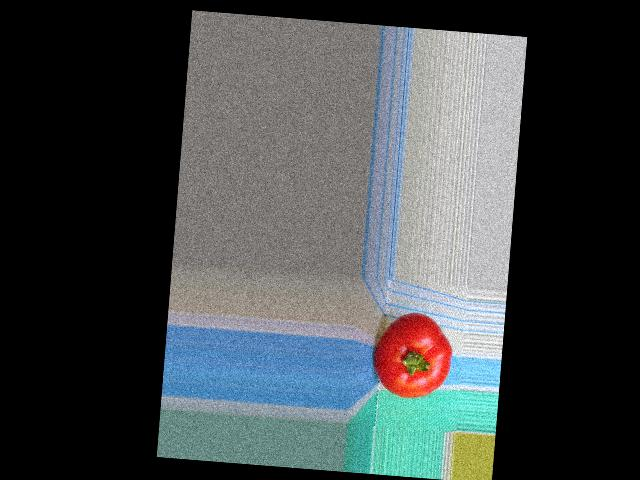tomato: (370, 310, 455, 401)
